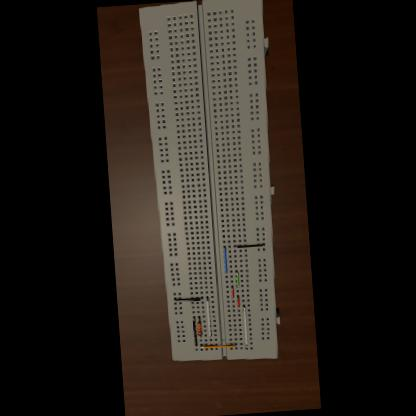breadboard: (137, 0, 288, 365)
resistor: (196, 322, 201, 336)
wire: (200, 342, 235, 349), (242, 304, 247, 346), (205, 298, 210, 338), (234, 244, 264, 249), (173, 297, 202, 302), (192, 318, 196, 348), (223, 246, 226, 274), (234, 270, 238, 288), (230, 286, 234, 298), (236, 295, 238, 307), (197, 316, 198, 322), (198, 336, 200, 338)
